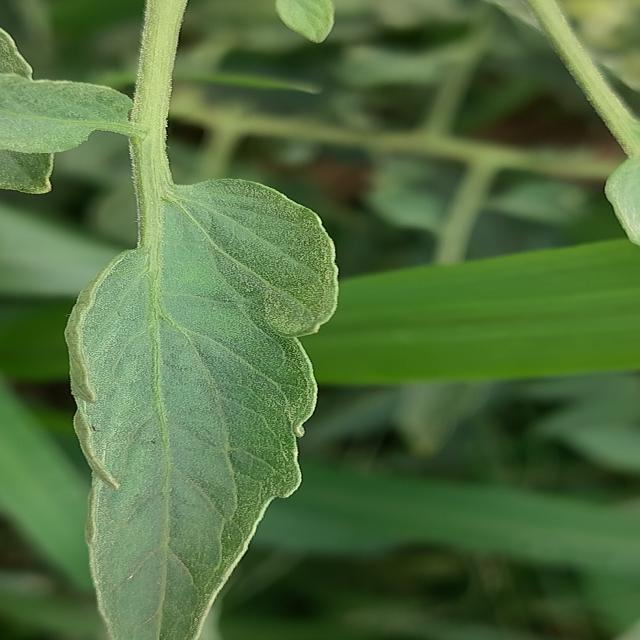tomato_healthy: (61, 174, 349, 640)
